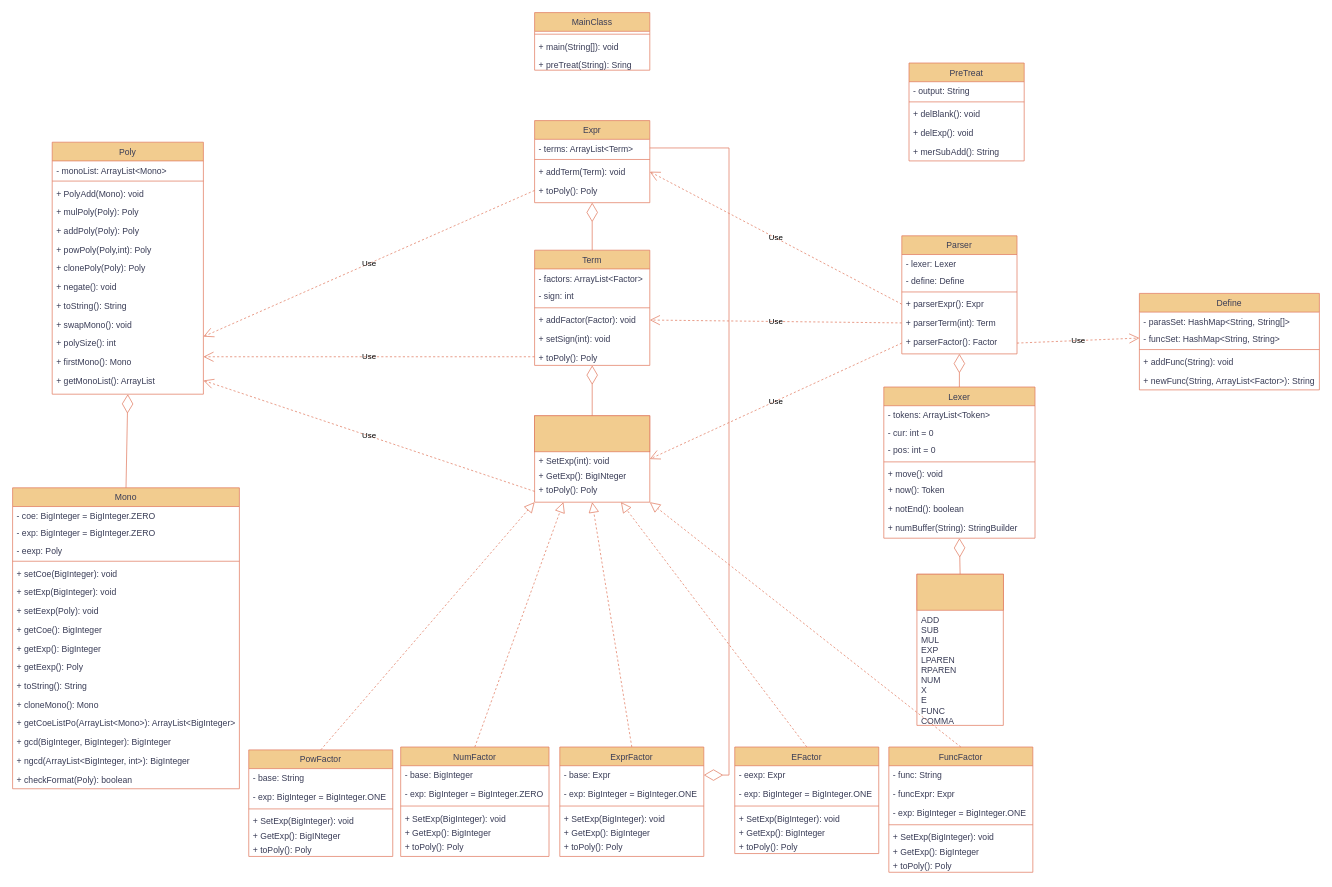
Some shapes in this 1332 by 887 pixel diagram are drawn without their labels. Each missing label, with the centre of its shape:
"«enumeration» Token" belongs at (959,591).
"«interface» Factor" belongs at (592,433).
